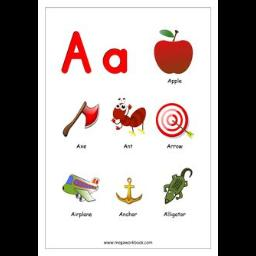a: (52, 24, 96, 80)
